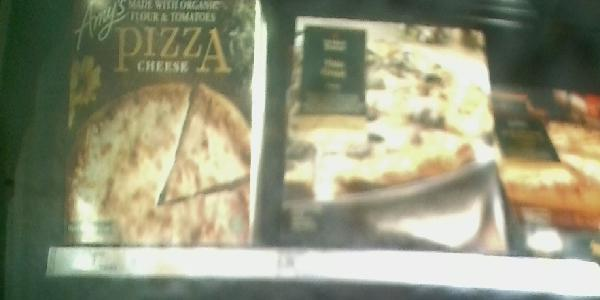pizza1: (273, 12, 512, 251), (60, 1, 256, 249)
